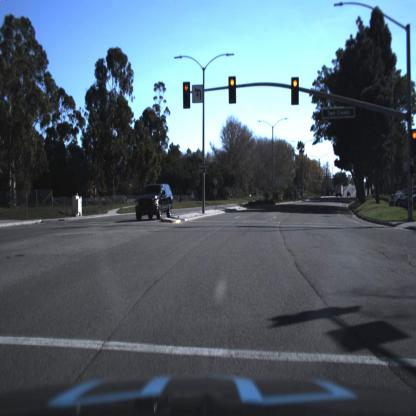cars: (135, 183, 173, 219)
